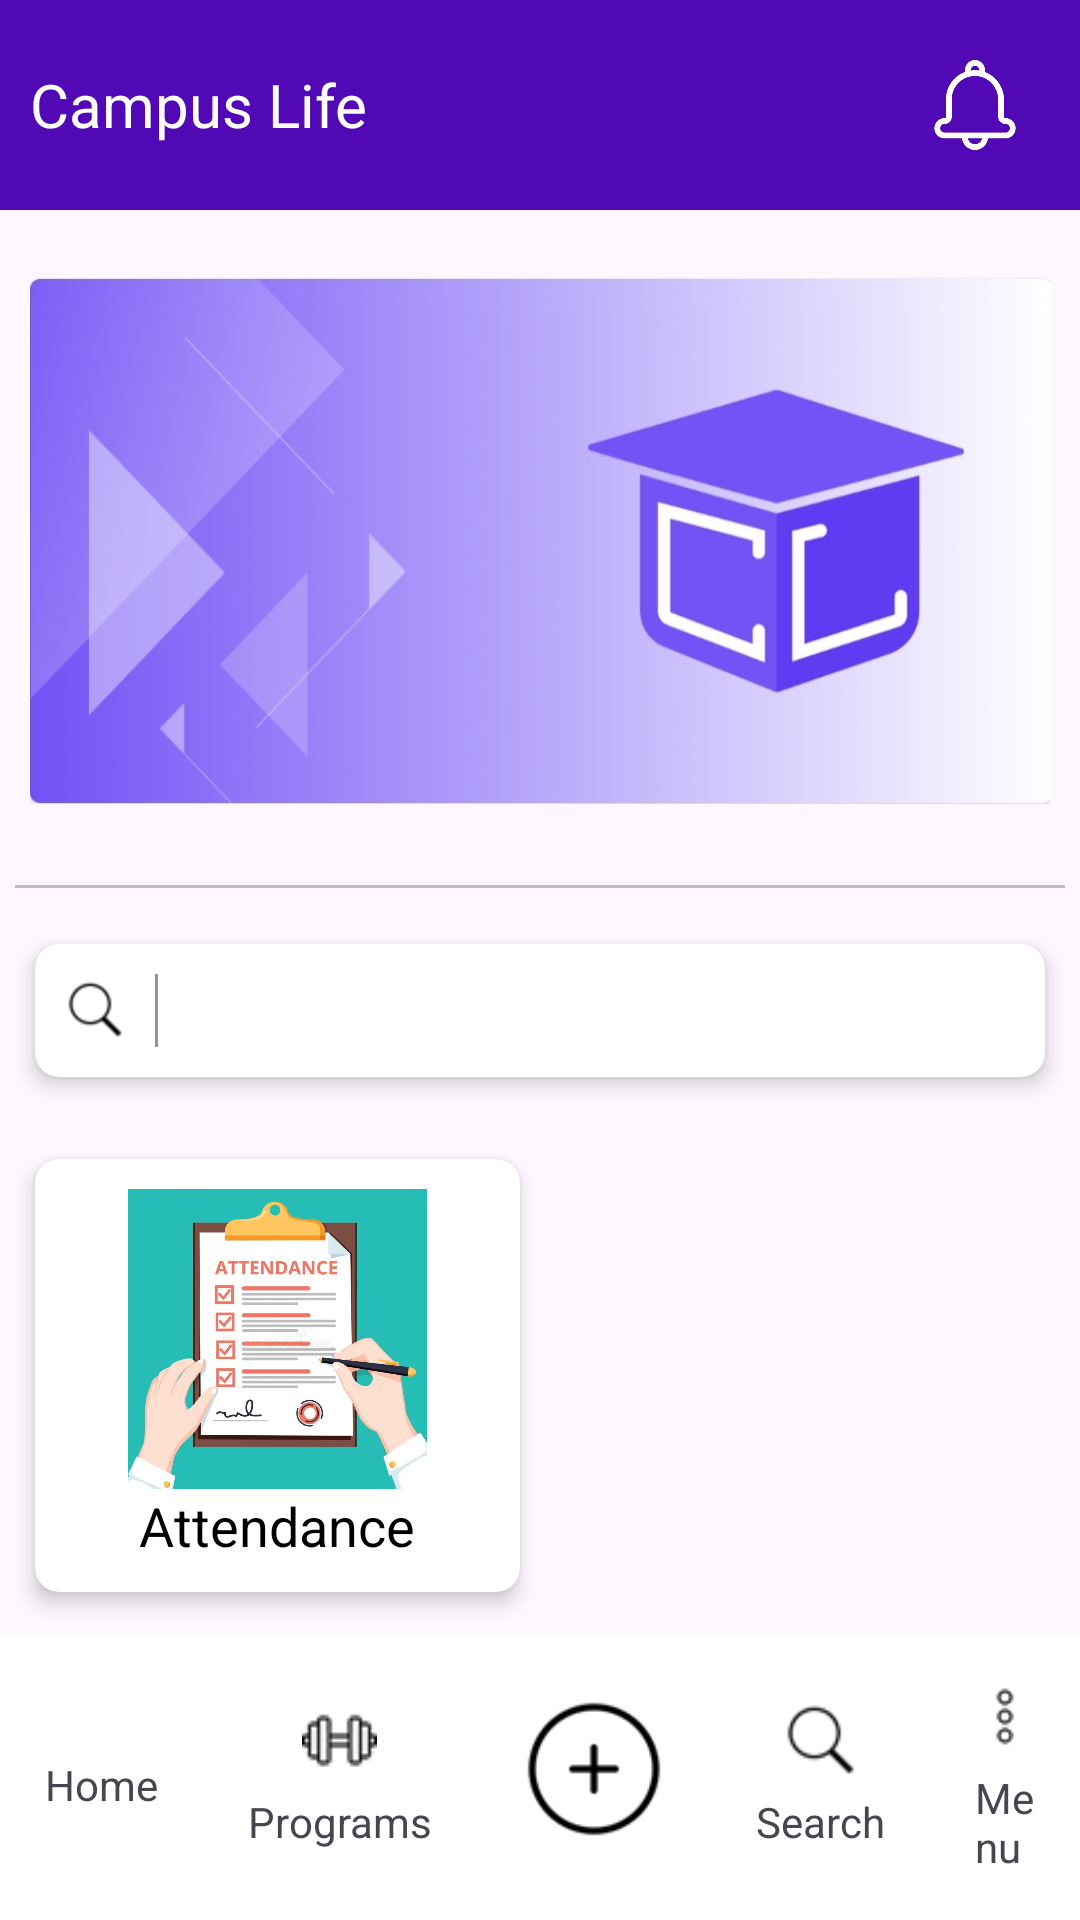

Icon click points for this 1080px x 1920px phone screenshot, format (x,y):
dumbell: (339,1740)
notification: (975,105)
plus: (594,1769)
